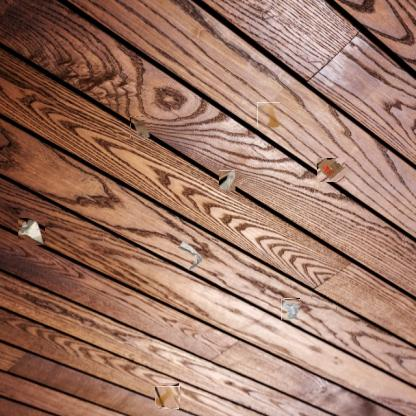dirty: (176, 238, 204, 272), (17, 217, 45, 245), (317, 158, 345, 182), (130, 116, 151, 140), (281, 298, 300, 320), (219, 170, 235, 191)
liquid: (257, 102, 280, 127), (157, 385, 180, 408)
